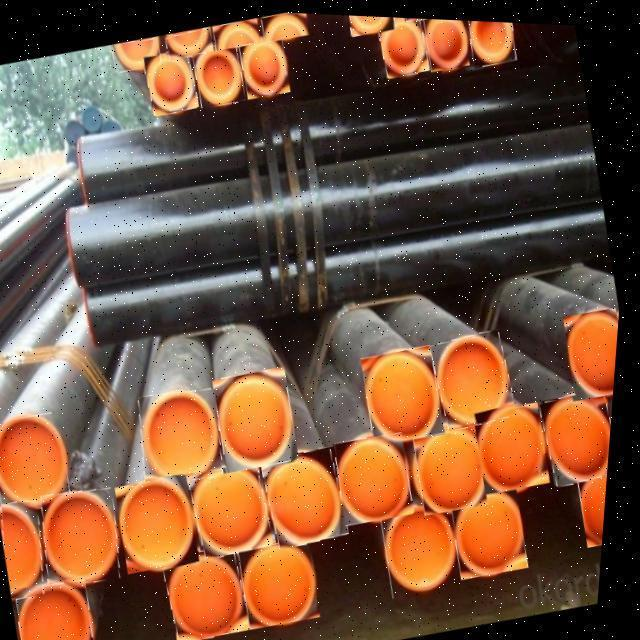pipe: (218, 363, 305, 470), (268, 442, 357, 546), (170, 541, 260, 640), (435, 324, 522, 426), (194, 457, 281, 557), (122, 473, 208, 572), (366, 340, 450, 441), (144, 387, 229, 483), (0, 412, 78, 514), (49, 486, 128, 585), (388, 497, 468, 594), (246, 534, 329, 626), (341, 428, 421, 521), (457, 481, 536, 574), (418, 417, 494, 511), (545, 382, 617, 481), (479, 398, 556, 489), (569, 302, 623, 394), (25, 578, 103, 640), (9, 500, 52, 599), (143, 46, 200, 114), (192, 39, 247, 106), (238, 30, 291, 97), (377, 14, 430, 75), (584, 457, 615, 541), (423, 15, 470, 67), (469, 16, 516, 62), (113, 36, 162, 70), (165, 25, 214, 58), (212, 16, 261, 48), (261, 10, 309, 40), (349, 12, 394, 31)
